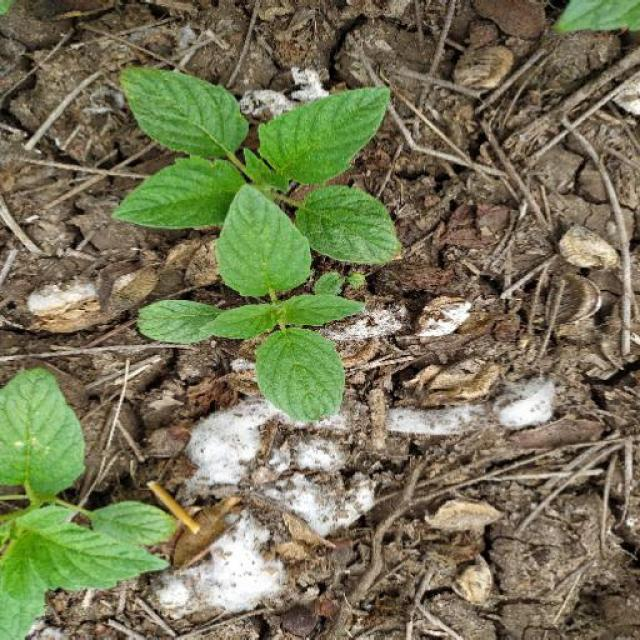crop: (107, 61, 415, 435), (1, 335, 175, 631)
